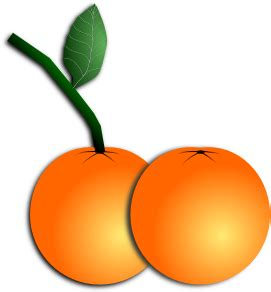orange: (128, 143, 271, 288), (25, 142, 156, 285)
